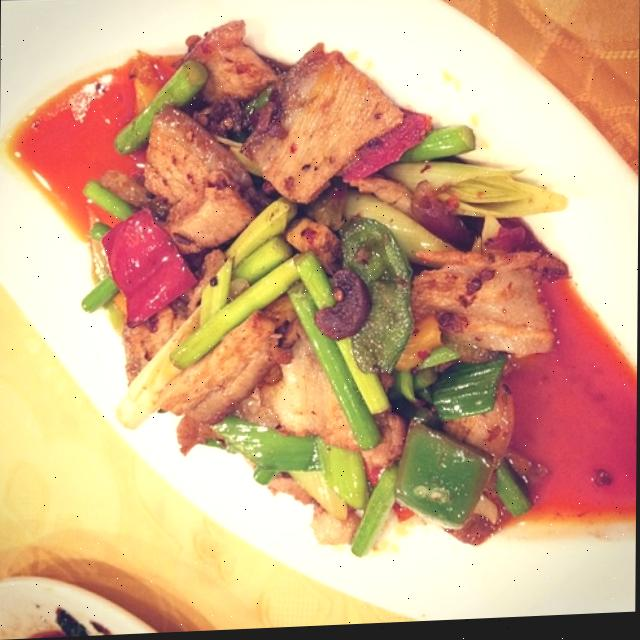蔬菜料理: (207, 0, 632, 620)
